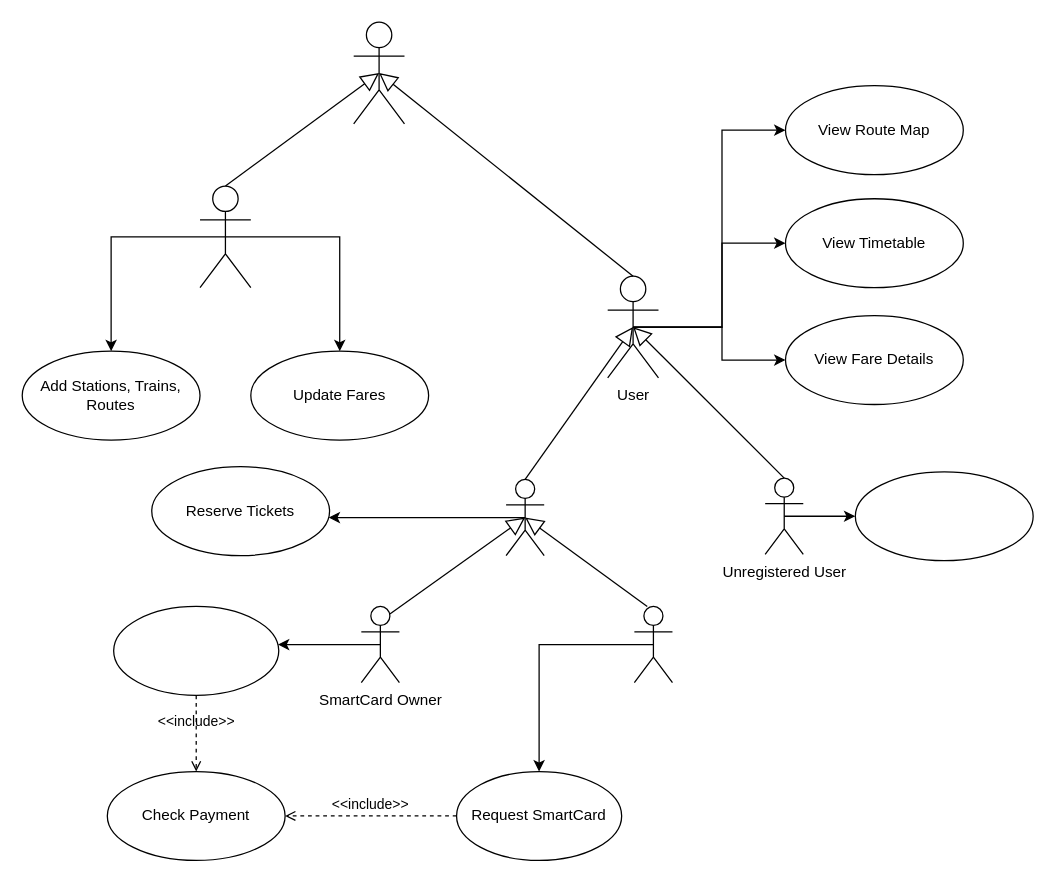
Image size: 1055x883. Some labels were removed from this diagram. The shapes that lost their labels are listed below. From the top down, each one's box as (x1, y1, x2, y2) in pixels, then its label:
(352, 21, 404, 124): Person
(199, 185, 251, 288): Admin
(505, 478, 544, 556): Registered User
(854, 471, 1033, 561): Register
(112, 605, 279, 695): Recharge SmartCard
(633, 605, 672, 683): Regular User
